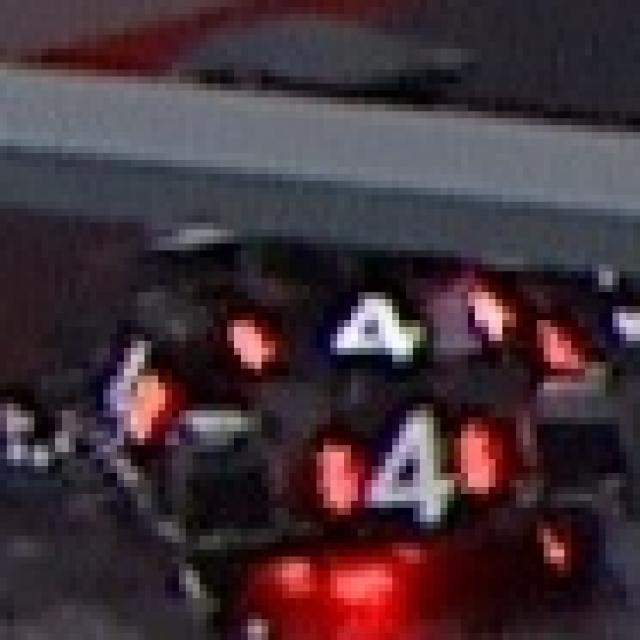R4: (220, 278, 516, 376), (310, 396, 502, 536), (76, 320, 172, 445)
